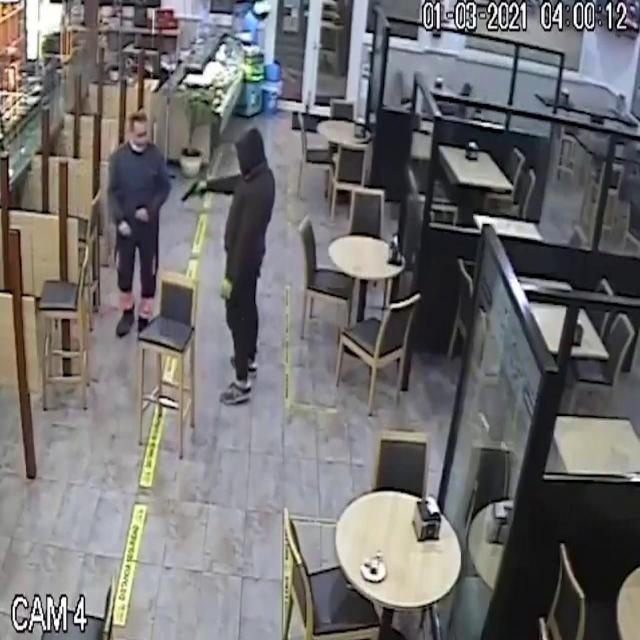gun: (173, 169, 214, 213)
